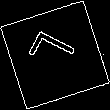L_SE: (25, 29, 85, 81)
